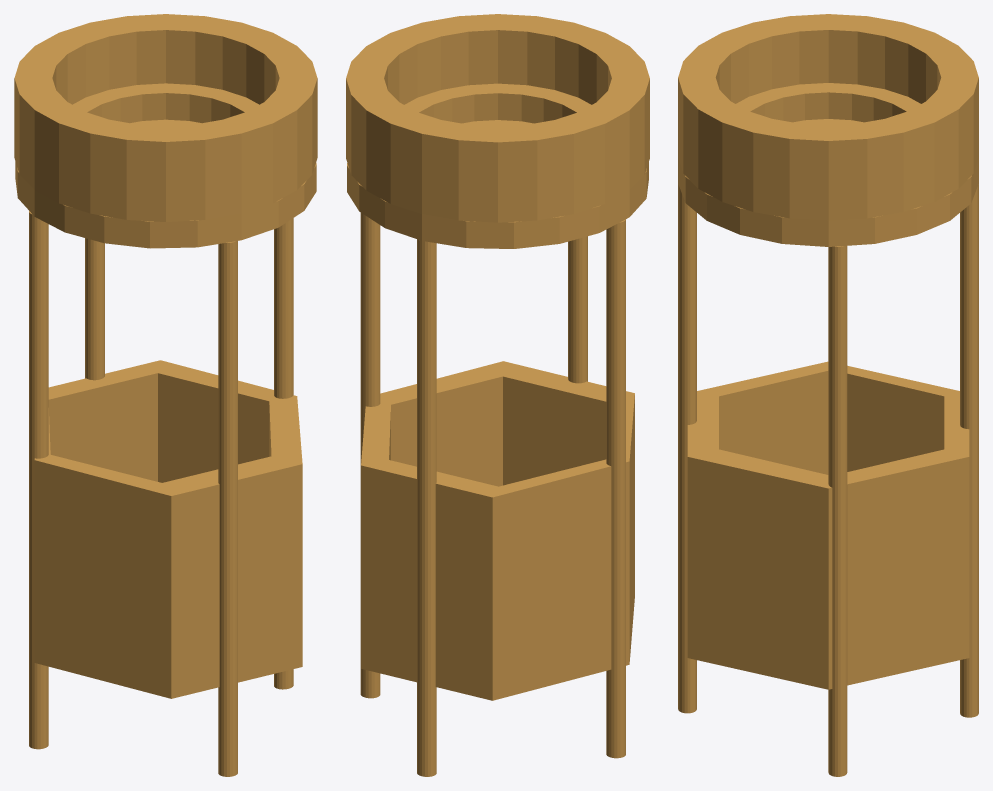
File: Spectacular Lahdi-Habbi.glb
3 views of the same model, side by side, from view 1: azimuth 30°, elevation 25°; view 2: azimuth 150°, elevation 25°; view 3: azimuth 270°, elevation 25° (orthographic).
Visible parts, largest first — view 1: Mesh_Mesh_head_geo.001_lambert2SG.001; view 2: Mesh_Mesh_head_geo.001_lambert2SG.001; view 3: Mesh_Mesh_head_geo.001_lambert2SG.001.
Part boxes in pixels (bbox=[...]): Mesh_Mesh_head_geo.001_lambert2SG.001: bbox=[14, 14, 317, 776]; Mesh_Mesh_head_geo.001_lambert2SG.001: bbox=[346, 14, 649, 776]; Mesh_Mesh_head_geo.001_lambert2SG.001: bbox=[678, 14, 978, 776].
Bounding box in the file's own units: 30 × 70 × 30.
